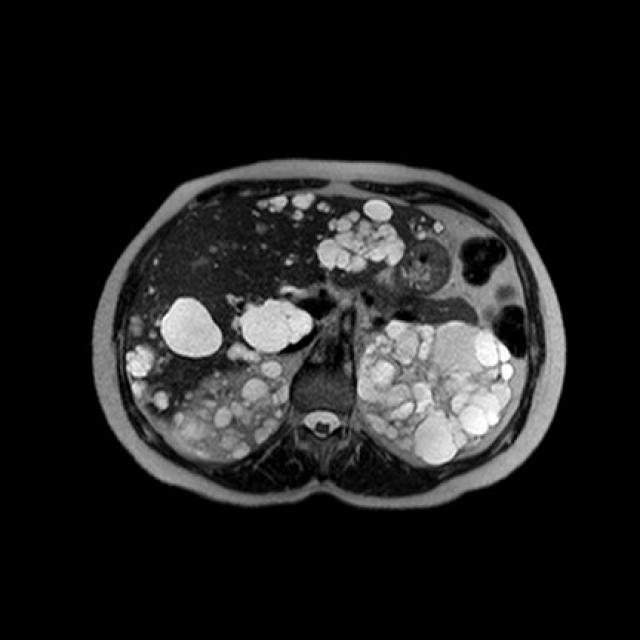sag: (176, 361, 290, 457)
sol: (358, 322, 517, 465)
